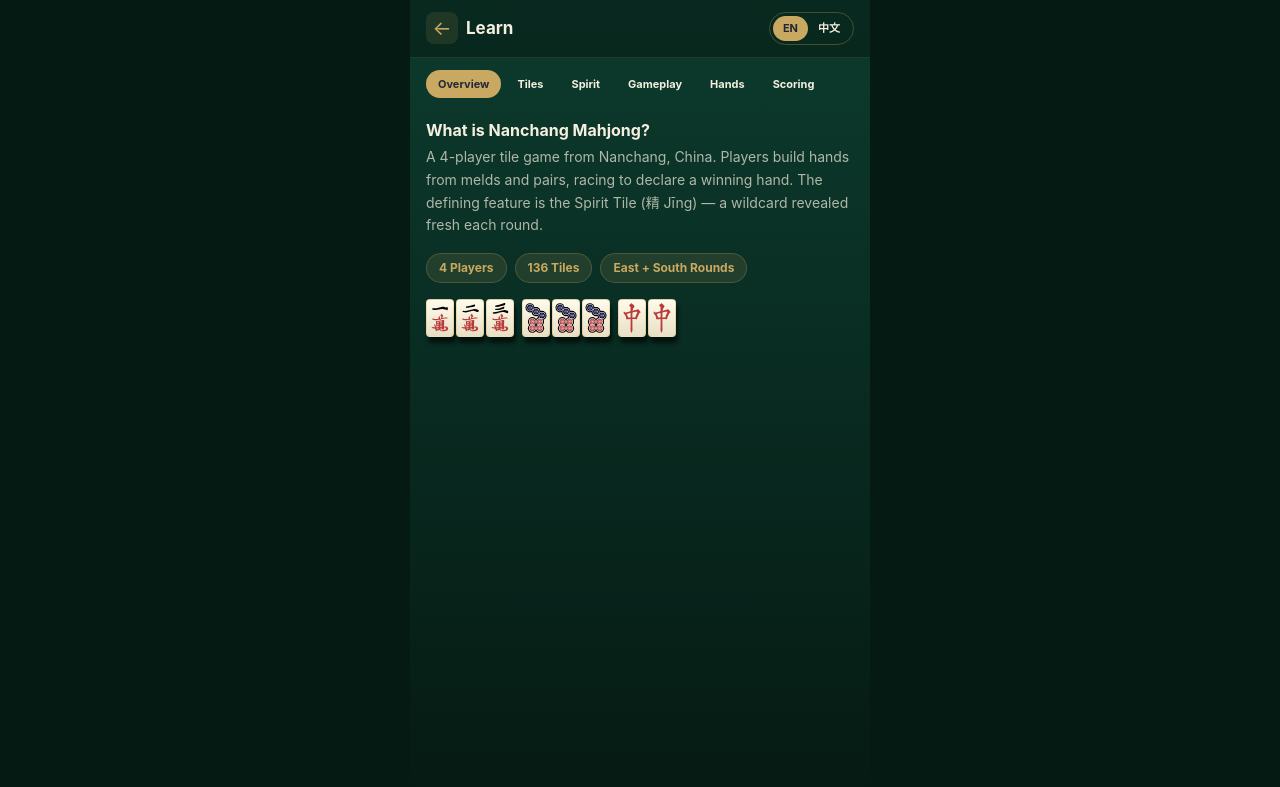
Test case: LearnPage › Learn·examples-render — switching to Hands tab renders winning hand types
Click the tab "Hands". click: coordinates (727, 84)
box: [698, 70, 757, 98]
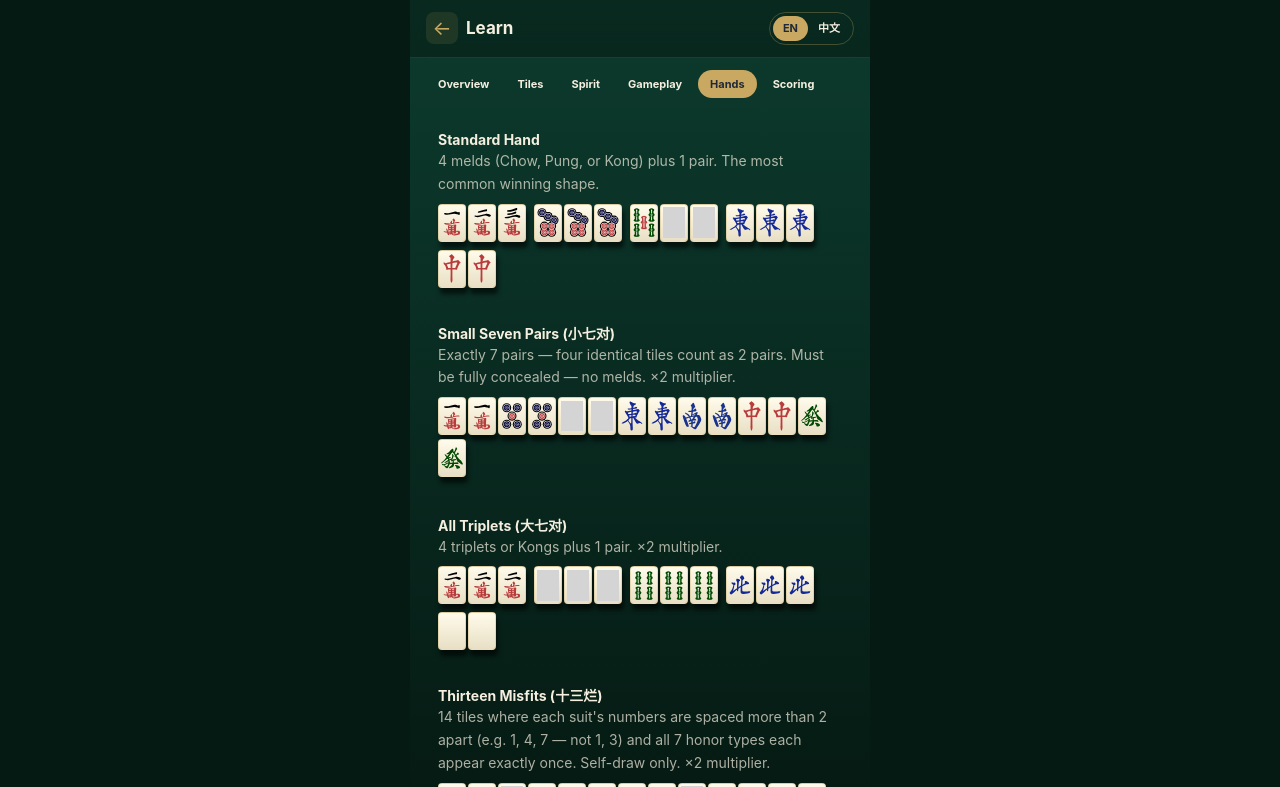
Check: the text "Standard Hand" is shown, box [438, 131, 540, 148]
Check: the text "Small Seven Pairs (小七对)" is shown, box [438, 324, 615, 342]
Check: the text "All Triplets (大七对)" is shown, box [438, 517, 567, 534]
